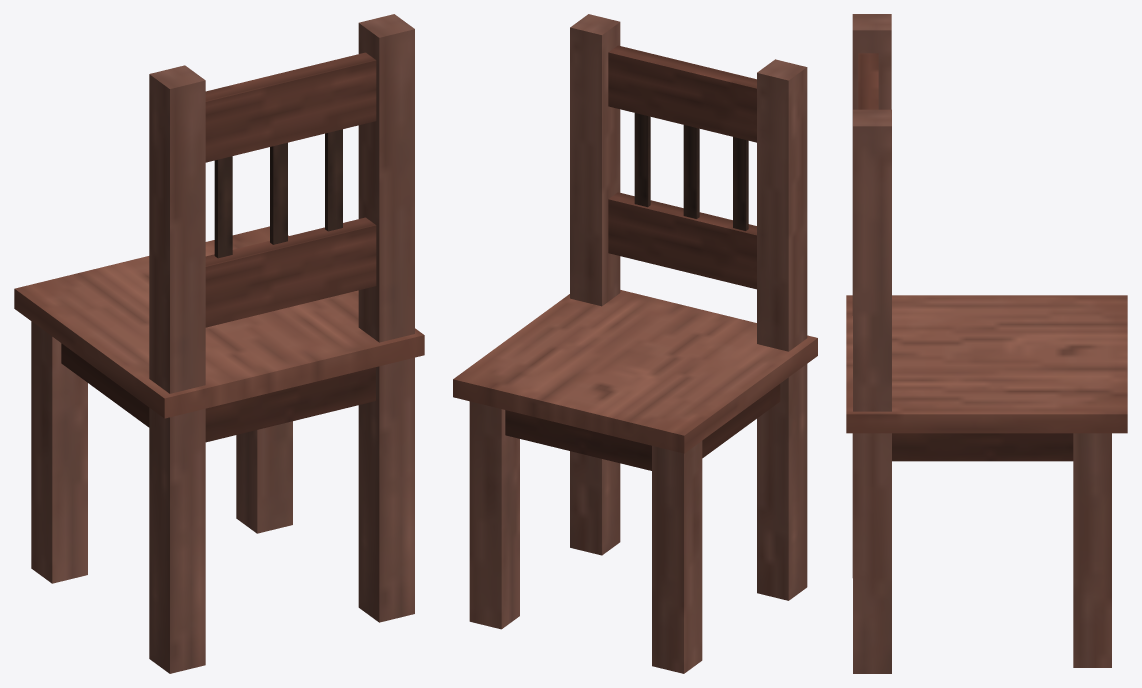
File: StoelBureau.fbx
3 views of the same model, side by side, from view 1: azimuth 30°, elevation 25°; view 2: azimuth 150°, elevation 25°; view 3: azimuth 270°, elevation 25° (orthographic). The views are drawn at different scales.
Parts seen in each view (by area): view 1: polySurface12; view 2: polySurface12; view 3: polySurface12.
Boxes of the visible parts, bbox=[...] form: polySurface12: bbox=[14, 14, 424, 673]; polySurface12: bbox=[453, 14, 817, 673]; polySurface12: bbox=[846, 14, 1127, 673].
Bounding box in the file's own units: 2.16 × 4.65 × 2.16.
